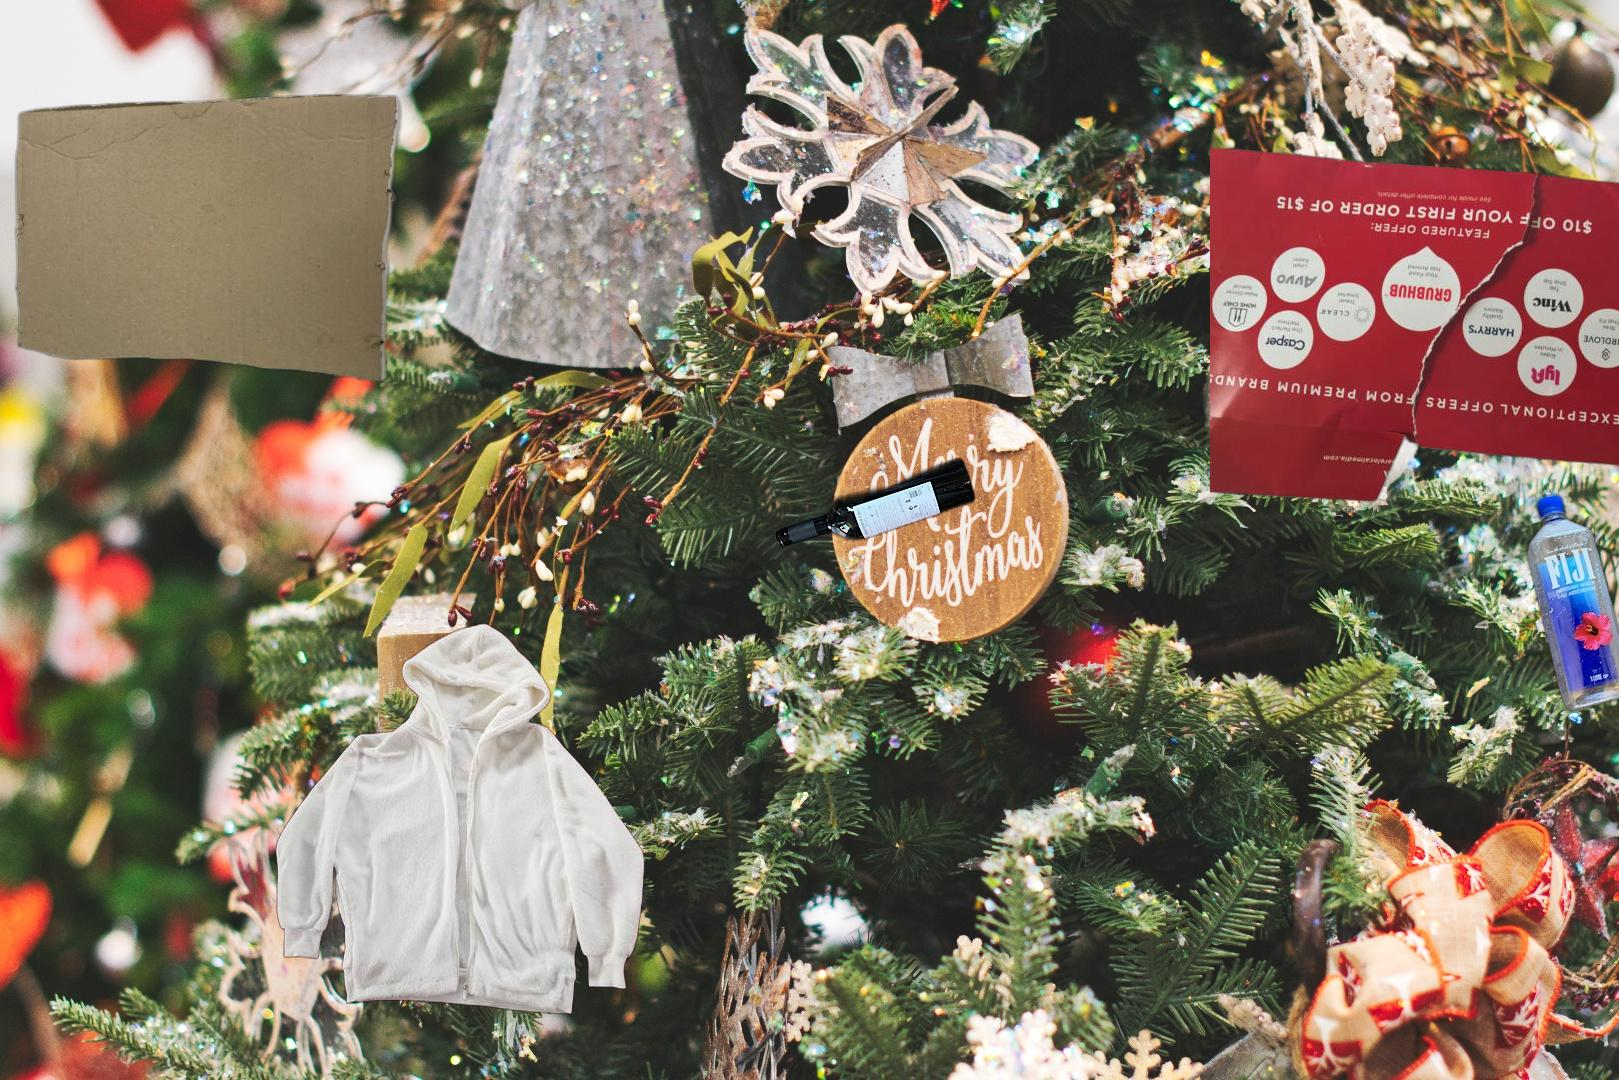clothes: (272, 620, 649, 1019)
glass: (755, 452, 979, 553)
paper: (1210, 148, 1619, 532)
plastic-bottles: (1523, 489, 1619, 718)
trashbox-cardboard: (12, 90, 405, 385)
